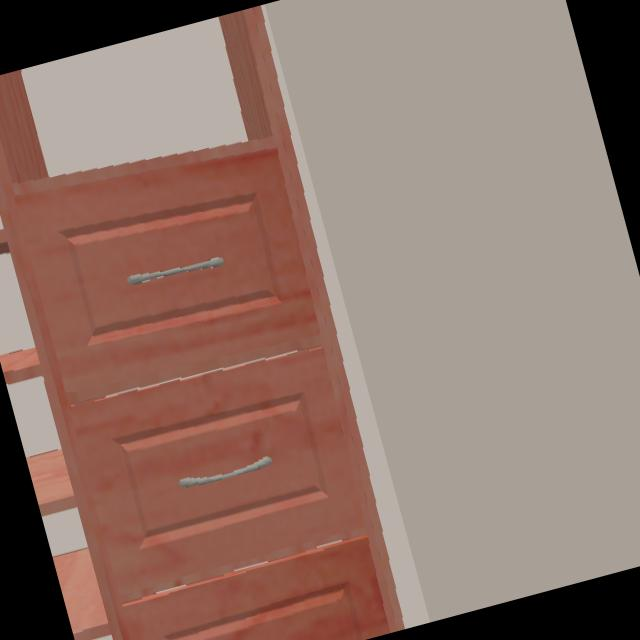shelf: (0, 4, 406, 640)
